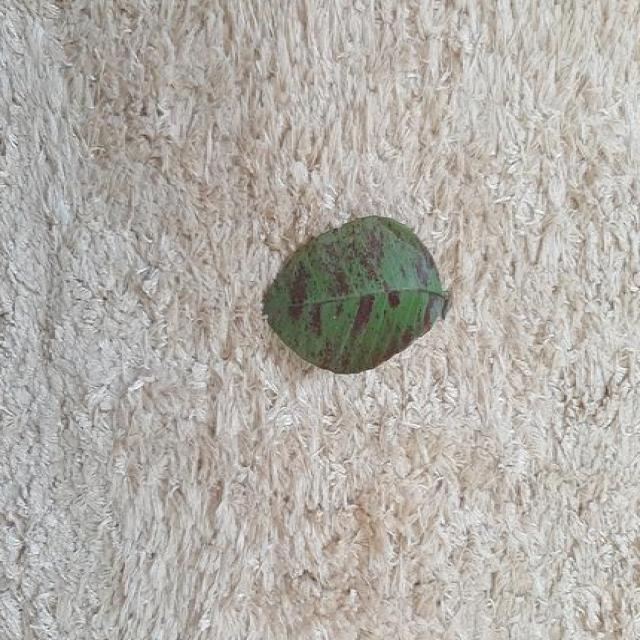leaf: (260, 214, 451, 374)
